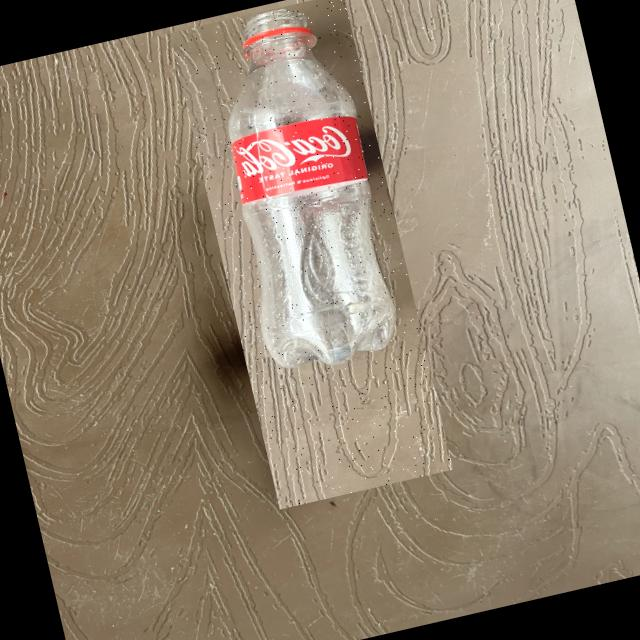REJECT: (170, 0, 453, 509)
